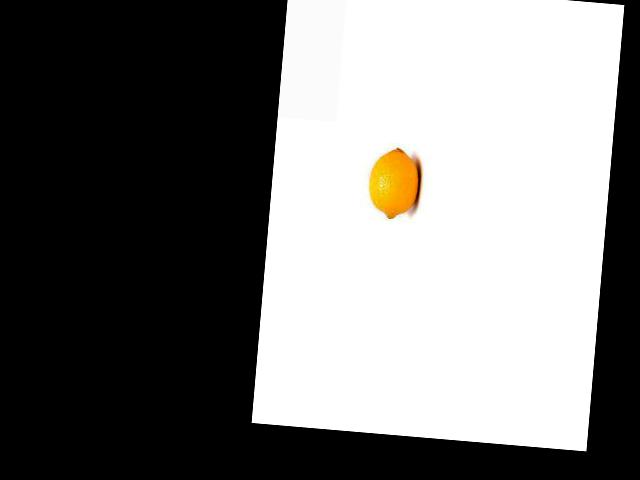lemon: (360, 145, 425, 226)
